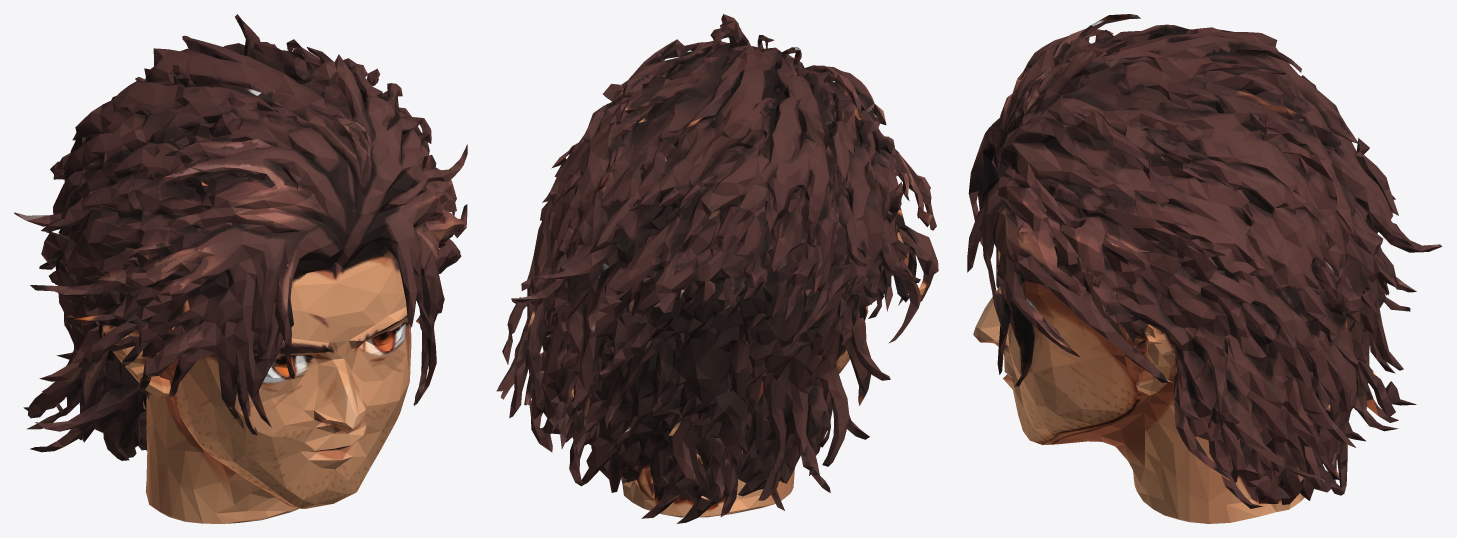
File: side_roninchef_repaired_atlas.glb
3 renders of one model, left to right at view 1: azimuth 30°, elevation 25°; view 2: azimuth 150°, elevation 25°; view 3: azimuth 270°, elevation 25°, orthographic. The views are drawn at different scales.
Parts seen in each view (by area): view 1: temp_mesh.ply; view 2: temp_mesh.ply; view 3: temp_mesh.ply.
Part boxes in pixels (left/top/right/bottom): temp_mesh.ply: left=14, top=14, right=467, bottom=523; temp_mesh.ply: left=496, top=14, right=938, bottom=523; temp_mesh.ply: left=967, top=14, right=1442, bottom=523.
Size of the model in its own units: 1.3 by 1.35 by 1.27.
1 material, 1 textured.
